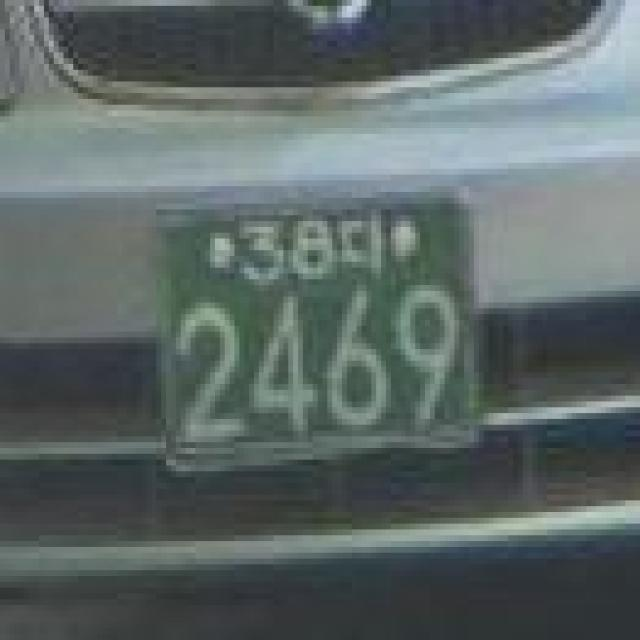illegal_plate: (143, 174, 494, 483)
